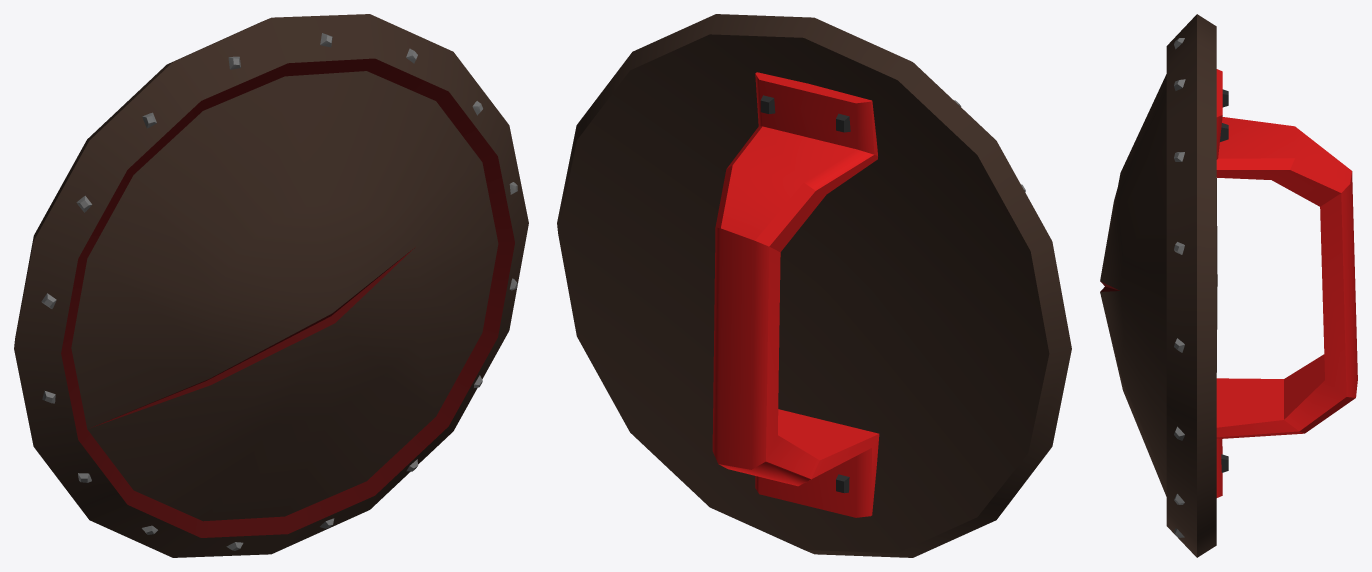
Rendered from PT_Shield_06_a.glb.
3 views of the same model, side by side, from view 1: azimuth 30°, elevation 25°; view 2: azimuth 150°, elevation 25°; view 3: azimuth 270°, elevation 25° (orthographic). The views are drawn at different scales.
Parts seen in each view (by area): view 1: PT_Shield_06_a_body; view 2: PT_Shield_06_a_body, PT_Shield_06_a_handle; view 3: PT_Shield_06_a_body, PT_Shield_06_a_handle.
Boxes of the visible parts, x1=… form: PT_Shield_06_a_body: x1=14, y1=14, x2=528, y2=557; PT_Shield_06_a_body: x1=557, y1=14, x2=1071, y2=557; PT_Shield_06_a_handle: x1=712, y1=72, x2=879, y2=517; PT_Shield_06_a_body: x1=1100, y1=14, x2=1217, y2=557; PT_Shield_06_a_handle: x1=1216, y1=69, x2=1357, y2=497.
Size of the model in its own units: 0.2836 by 0.2825 by 0.1339.
Materials: 1 (1 with a texture image).
